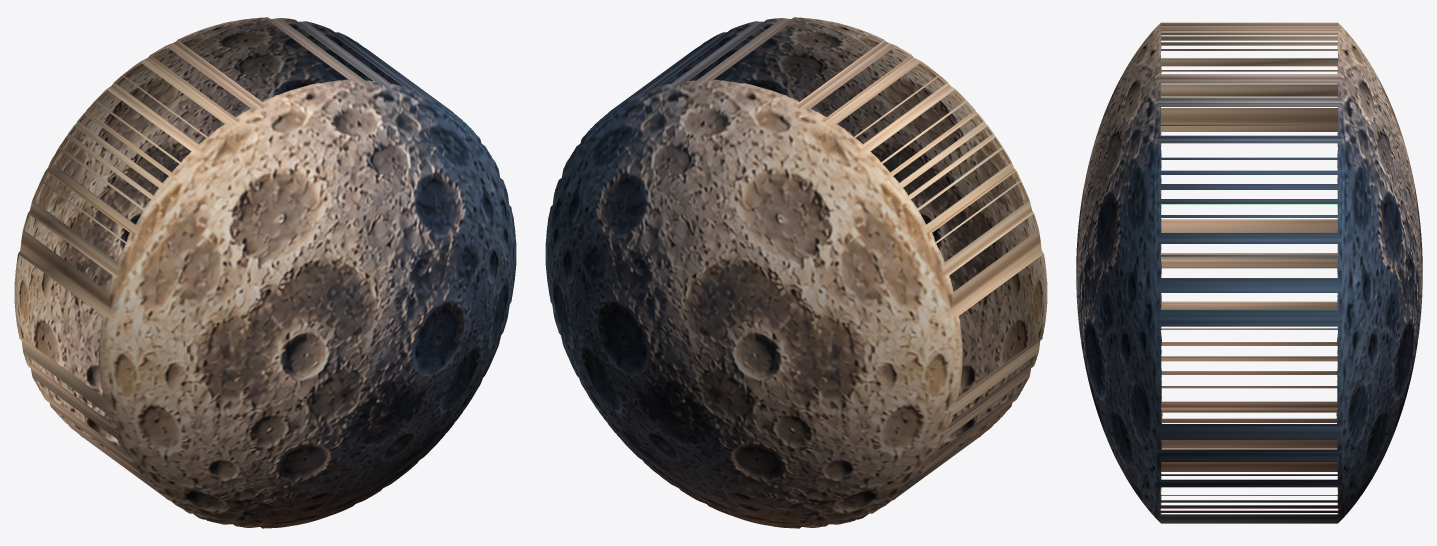
3 renders of one model, left to right at view 1: azimuth 30°, elevation 25°; view 2: azimuth 150°, elevation 25°; view 3: azimuth 270°, elevation 25°, orthographic. The views are drawn at different scales.
Parts seen in each view (by area): view 1: planets:5; view 2: planets:5; view 3: planets:5.
Part boxes in pixels (left/top/right/bottom): planets:5: left=14, top=17, right=516, bottom=528; planets:5: left=545, top=17, right=1047, bottom=528; planets:5: left=1076, top=22, right=1422, bottom=523.
Size of the model in its own units: 0.9557 by 0.9583 by 0.66.
Materials: 1 (1 with a texture image).
